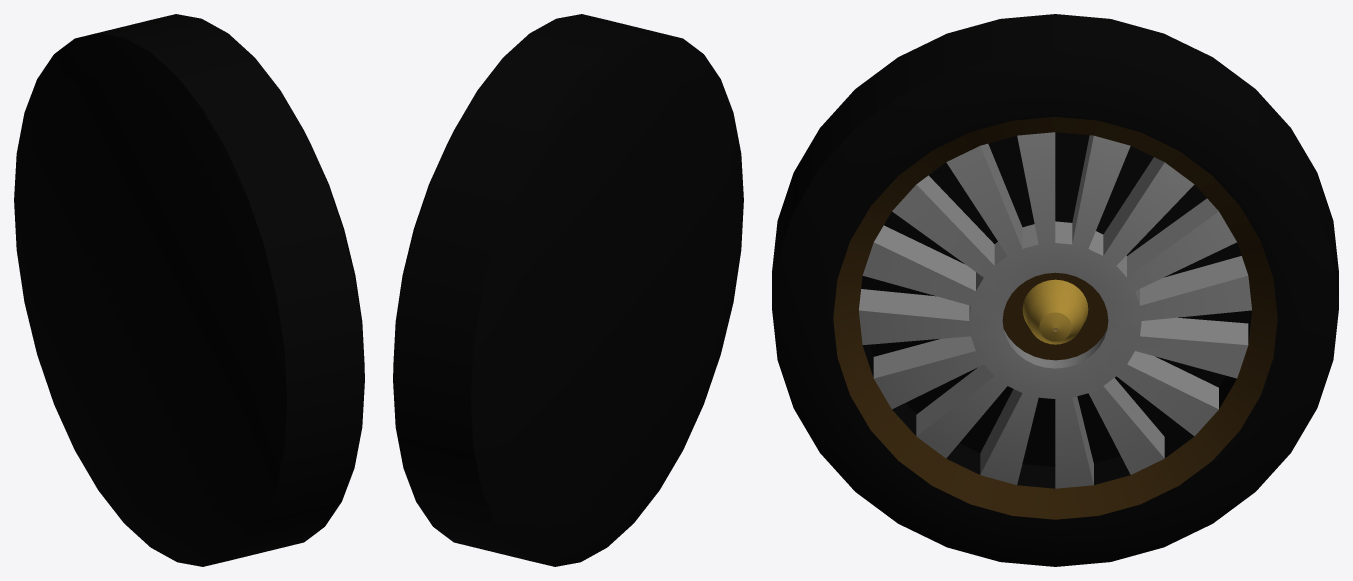
Rendered from hotrod-car-wheel.fbx.
The picture shows the model from 3 angles, left to right: view 1: azimuth 30°, elevation 25°; view 2: azimuth 150°, elevation 25°; view 3: azimuth 270°, elevation 25°; orthographic projection. The views are drawn at different scales.
Visible parts, largest first — view 1: wheel-front-left; view 2: wheel-front-left; view 3: wheel-front-left.
Part boxes in pixels (x1,y1,x2,y2): wheel-front-left: [14, 14, 364, 566]; wheel-front-left: [393, 14, 743, 566]; wheel-front-left: [772, 14, 1338, 566].
Bounding box in the file's own units: 34.25 × 125 × 125.
